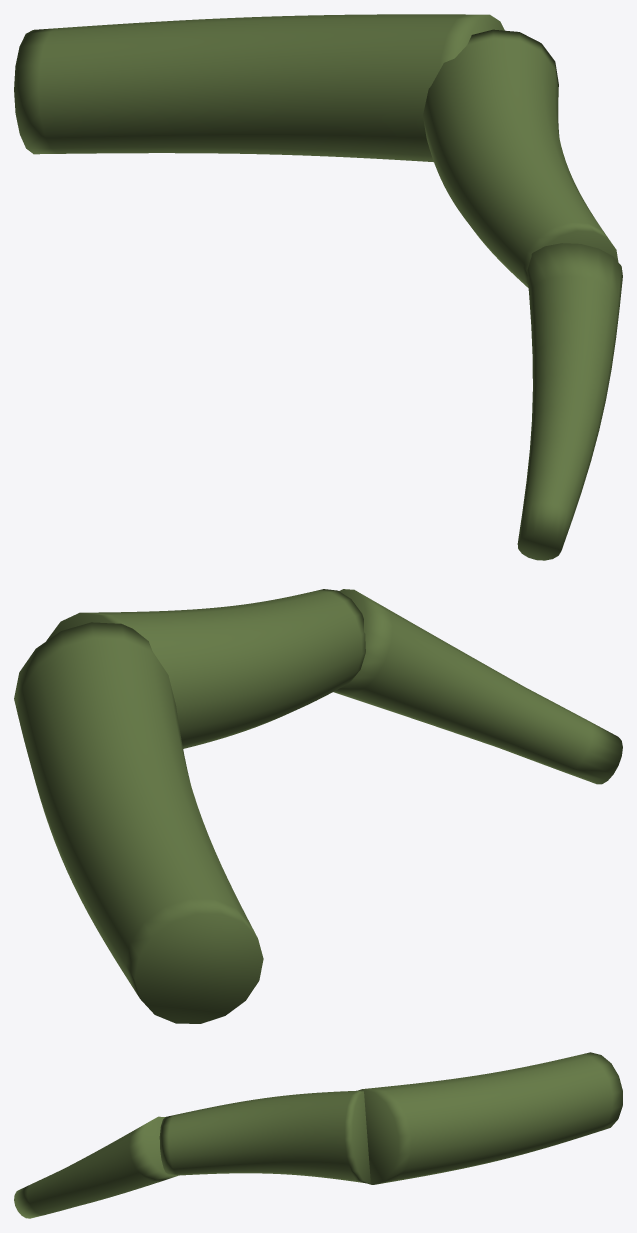
File: leg_insect_01.glb
3 views of the same model, one above another, from view 1: azimuth 30°, elevation 25°; view 2: azimuth 150°, elevation 25°; view 3: azimuth 270°, elevation 25° (orthographic). The views are drawn at different scales.
Parts seen in each view (by area): view 1: Upper, Lower, Foot; view 2: Upper, Lower, Foot; view 3: Upper, Lower, Foot.
Boxes of the visible parts, x1,y1,x2,y2 form: Upper: (14,14,504,162); Lower: (423,29,618,287); Foot: (517,243,622,560); Upper: (14,622,263,1023); Lower: (46,589,365,748); Foot: (333,589,622,784); Upper: (357,1052,622,1184); Lower: (159,1090,370,1183); Foot: (14,1116,178,1218).
Size of the model in its own units: 0.4895 by 0.3667 by 1.07.
